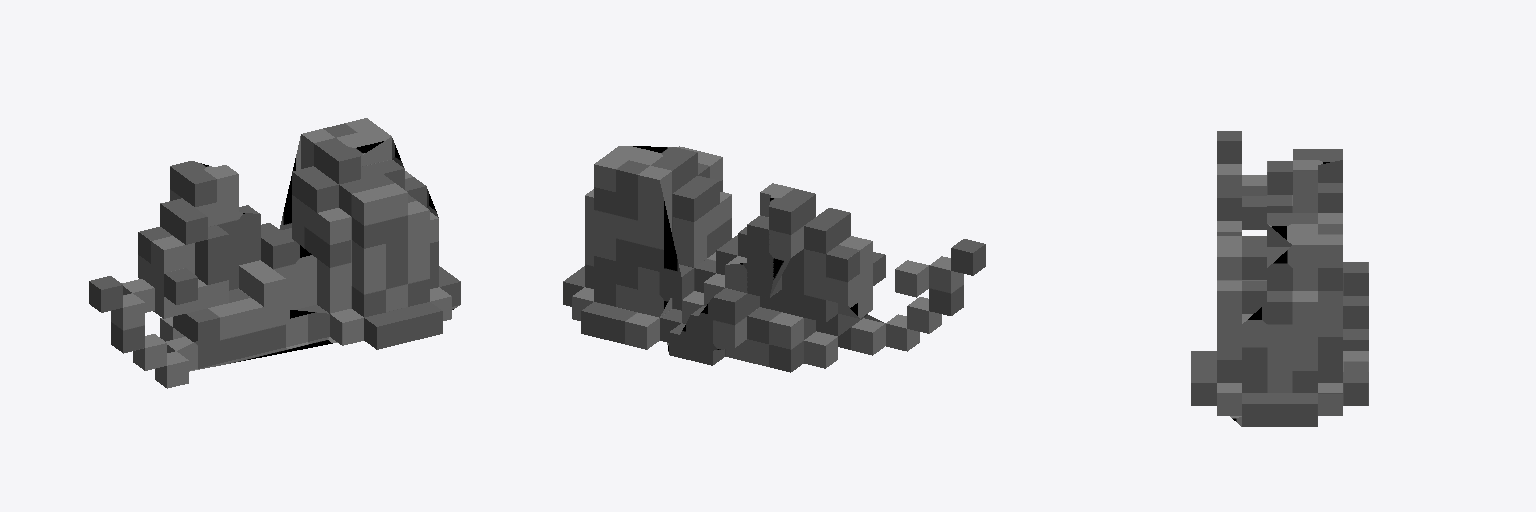
The picture shows the model from 3 angles: view 1: azimuth 30°, elevation 25°; view 2: azimuth 150°, elevation 25°; view 3: azimuth 270°, elevation 25°; orthographic projection.
Parts seen in each view (by area): view 1: Statue_Borken_Statue_Borken.001; view 2: Statue_Borken_Statue_Borken.001; view 3: Statue_Borken_Statue_Borken.001.
Part boxes in pixels (bbox=[...]): Statue_Borken_Statue_Borken.001: bbox=[89, 118, 460, 388]; Statue_Borken_Statue_Borken.001: bbox=[563, 146, 985, 372]; Statue_Borken_Statue_Borken.001: bbox=[1191, 131, 1368, 426].
Bounding box in the file's own units: 1.7 × 0.7 × 0.7.
Materials: 1 (1 with a texture image).